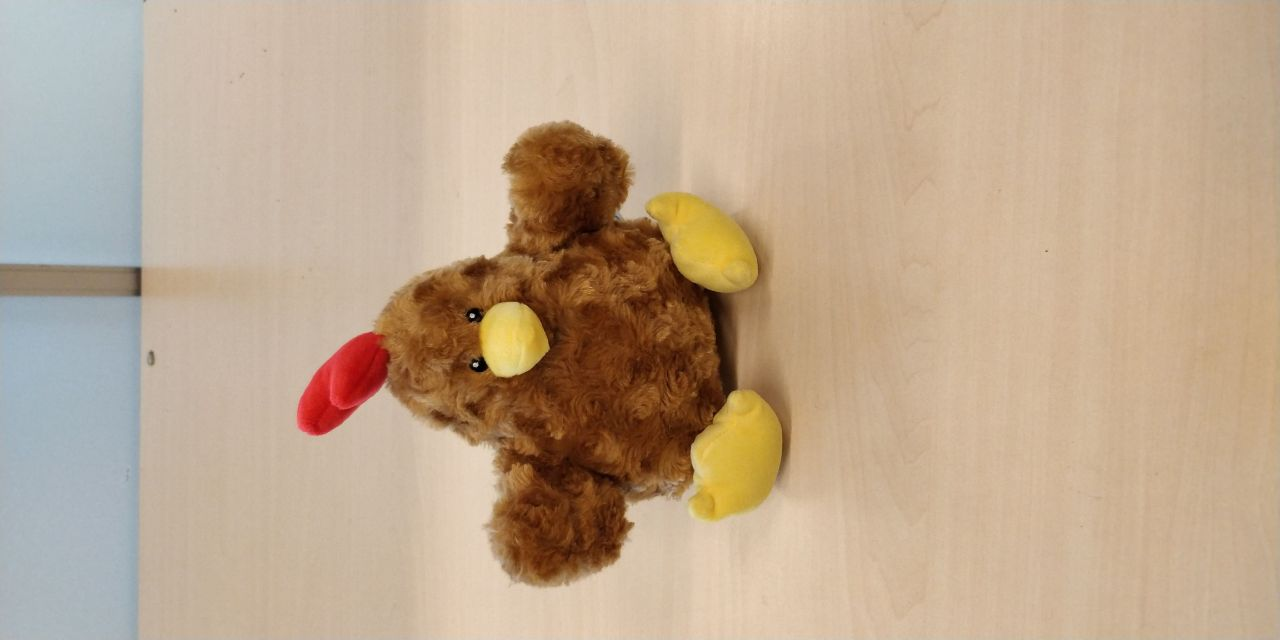fakeChicken: (293, 116, 786, 590)
